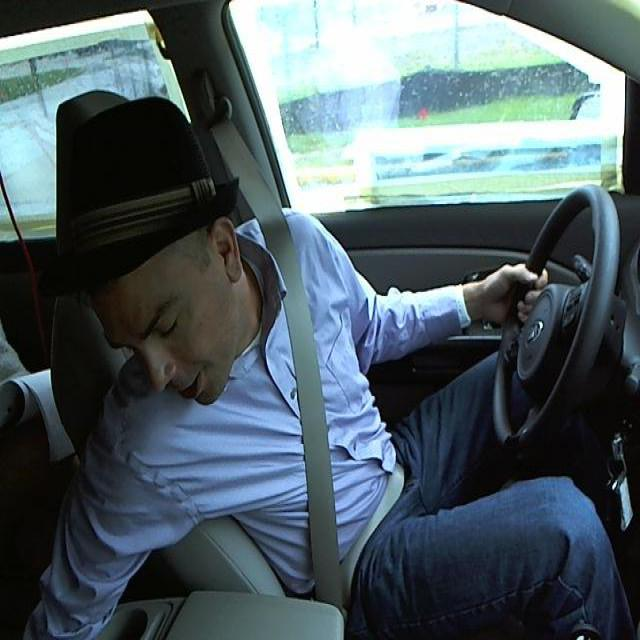seatbelt: (269, 231, 394, 578)
